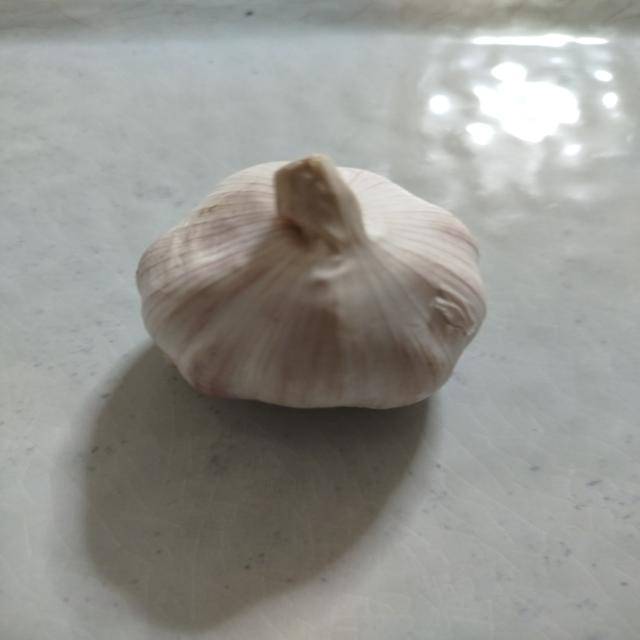garlic: (135, 154, 488, 410)
